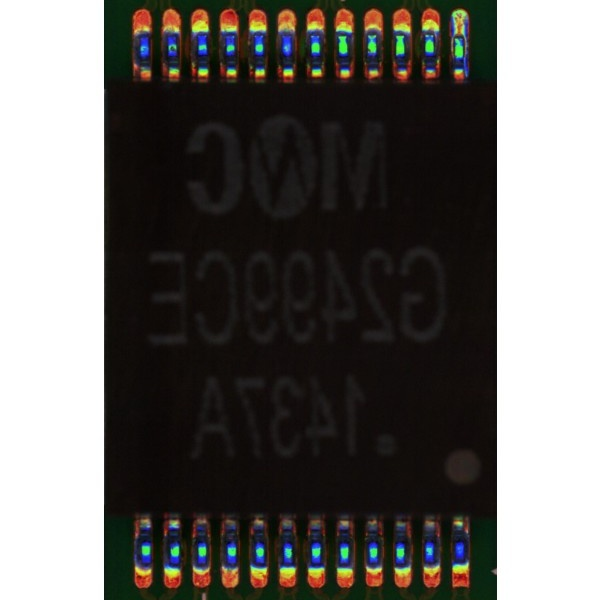Bad_podu: (454, 24, 464, 46)
Bad_qiaojiao: (465, 35, 471, 76)
